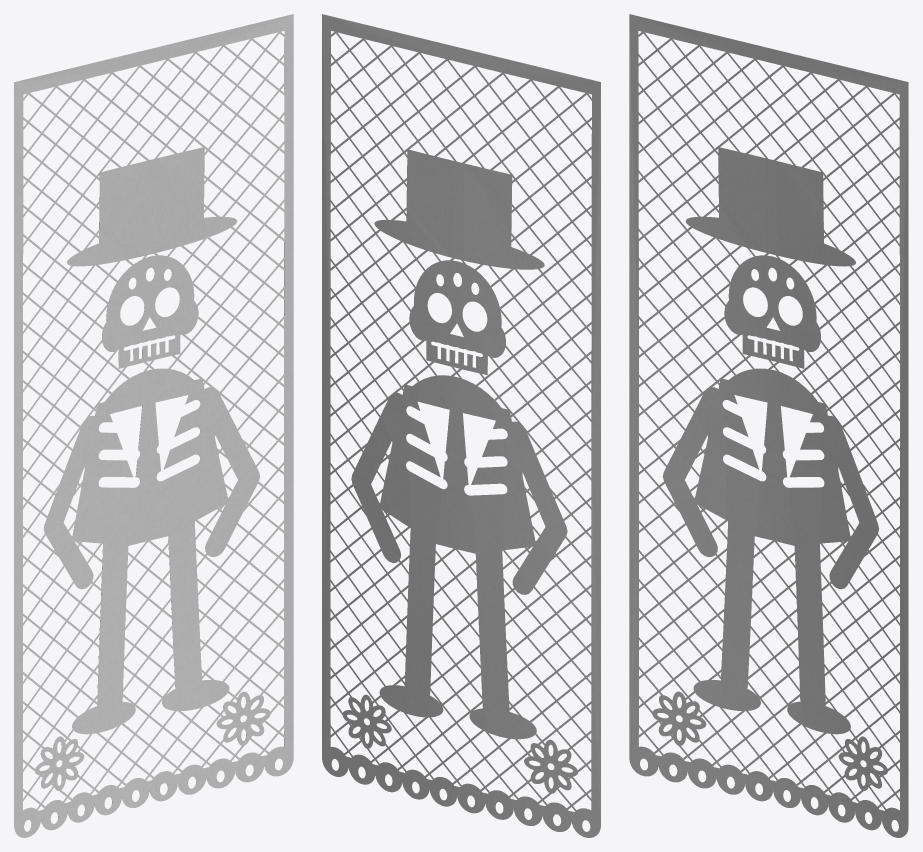
The model's file is papel_7.gltf.
3 renders of one model, left to right at view 1: azimuth 30°, elevation 25°; view 2: azimuth 150°, elevation 25°; view 3: azimuth 330°, elevation 25°, orthographic.
Visible parts, largest first — view 1: papel_7; view 2: papel_7; view 3: papel_7.
Part boxes in pixels (bbox=[...]): papel_7: bbox=[14, 14, 293, 837]; papel_7: bbox=[322, 14, 600, 837]; papel_7: bbox=[629, 14, 908, 837].
Bounding box in the file's own units: 0.25 × 0.65 × 0.00915.
1 material, 1 textured.
